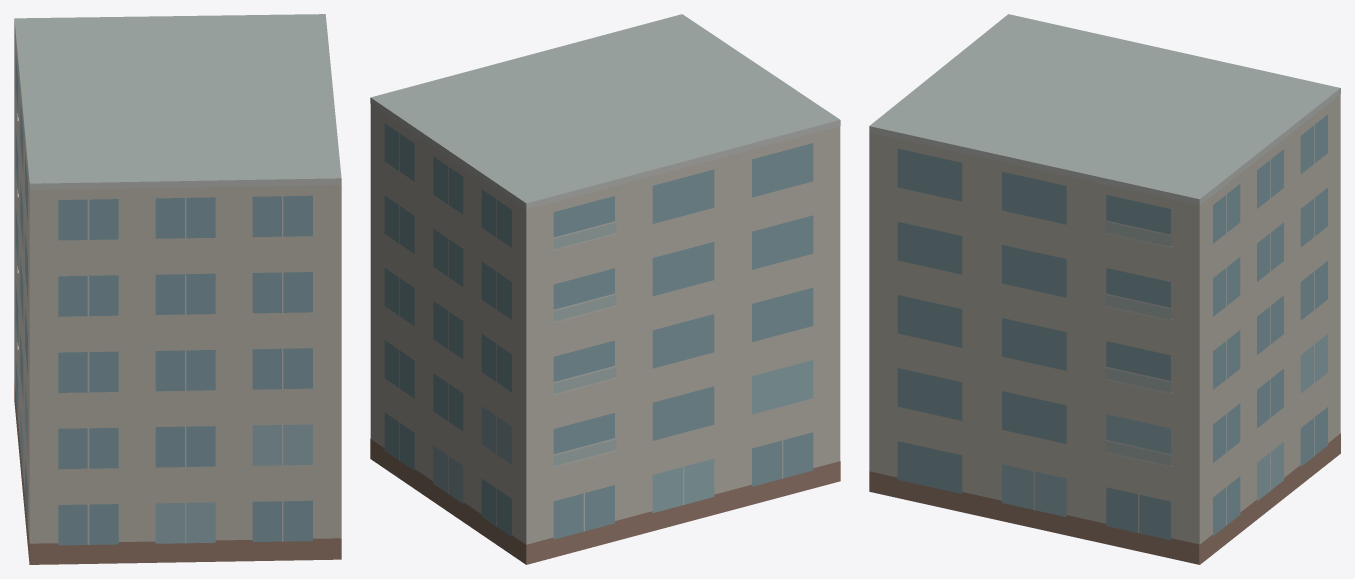
The model's file is survey-upis-32892423.glb.
The picture shows the model from 3 angles, left to right: view 1: azimuth 30°, elevation 25°; view 2: azimuth 150°, elevation 25°; view 3: azimuth 270°, elevation 25°; orthographic projection. The views are drawn at different scales.
Parts seen in each view (by area): view 1: survey-upis-32892423.tmp; view 2: survey-upis-32892423.tmp; view 3: survey-upis-32892423.tmp.
Boxes of the visible parts, x1,y1,x2,y2 form: survey-upis-32892423.tmp: [14, 14, 341, 564]; survey-upis-32892423.tmp: [370, 14, 840, 564]; survey-upis-32892423.tmp: [869, 14, 1340, 564].
Bounding box in the file's own units: 15.55 × 14.3 × 16.72.
